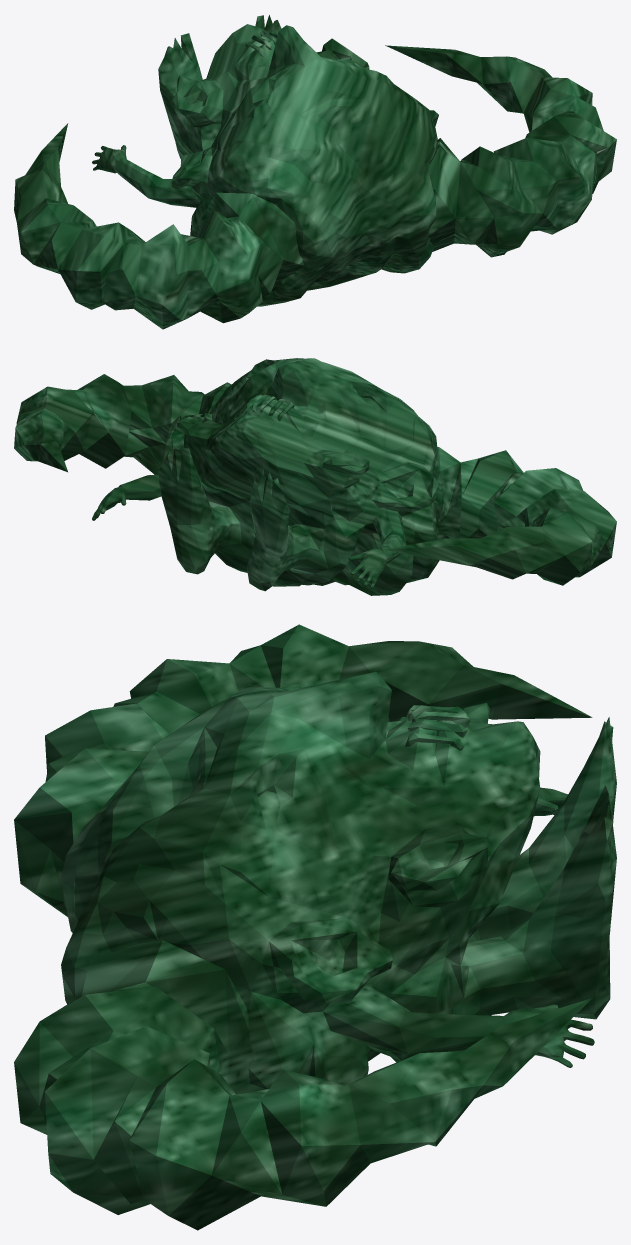
The model's file is secret_keepernew.obj.
3 renders of one model, top to bottom at view 1: azimuth 30°, elevation 25°; view 2: azimuth 150°, elevation 25°; view 3: azimuth 270°, elevation 25°, orthographic. The views are drawn at different scales.
Visible parts, largest first — view 1: Object.1; view 2: Object.1; view 3: Object.1.
Part boxes in pixels (box(x1,y1,x2,y2)): Object.1: box(14, 15, 616, 329); Object.1: box(14, 358, 616, 595); Object.1: box(14, 624, 616, 1230).
Bounding box in the file's own units: 78.28 × 30.9 × 39.5.
Materials: 2 (1 with a texture image).
